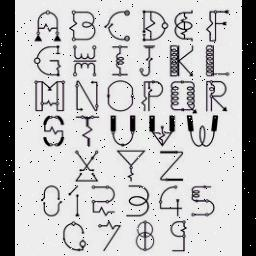o: (103, 80, 141, 112)
s: (38, 112, 66, 152)
z: (154, 150, 188, 184)
